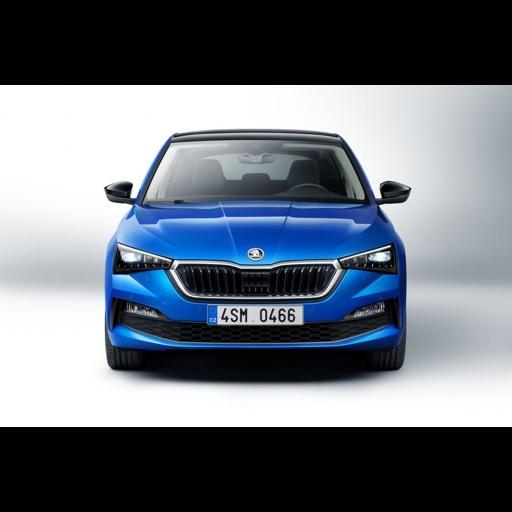hatchback: (105, 130, 409, 368)
